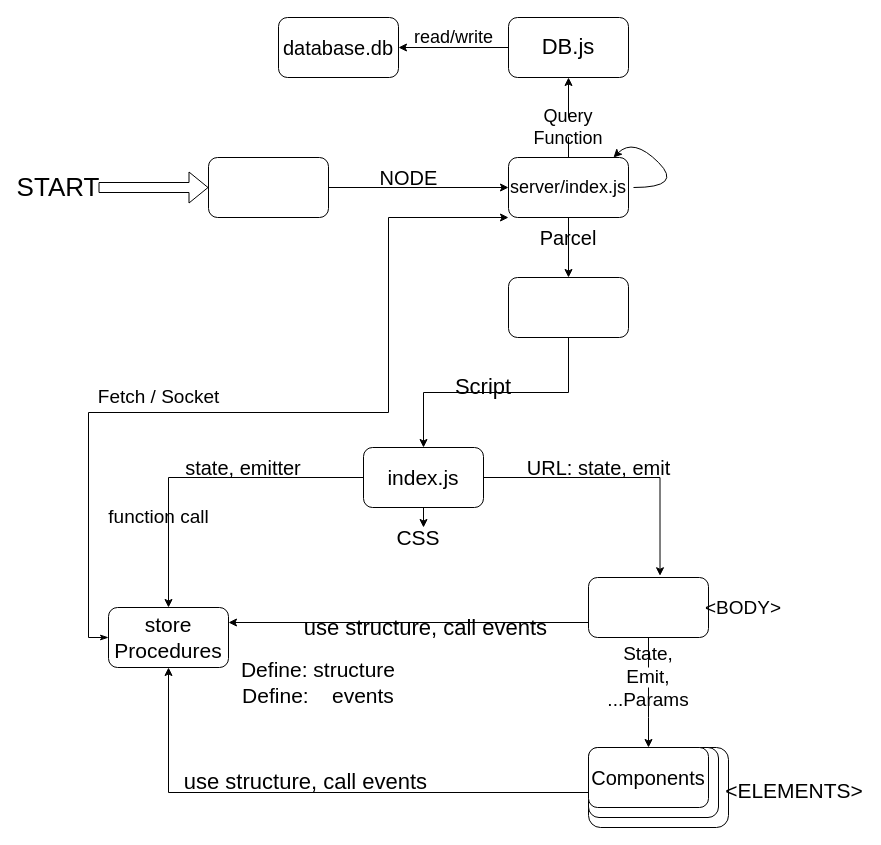
Image size: 881x845. Some labels were removed from this diagram. The shapes that lost their labels are listed below. From the top down, each one's centre as x and y in pixels, then its label:
pixel 268 187: package.json
pixel 568 307: index.html
pixel 648 607: VIEWS
